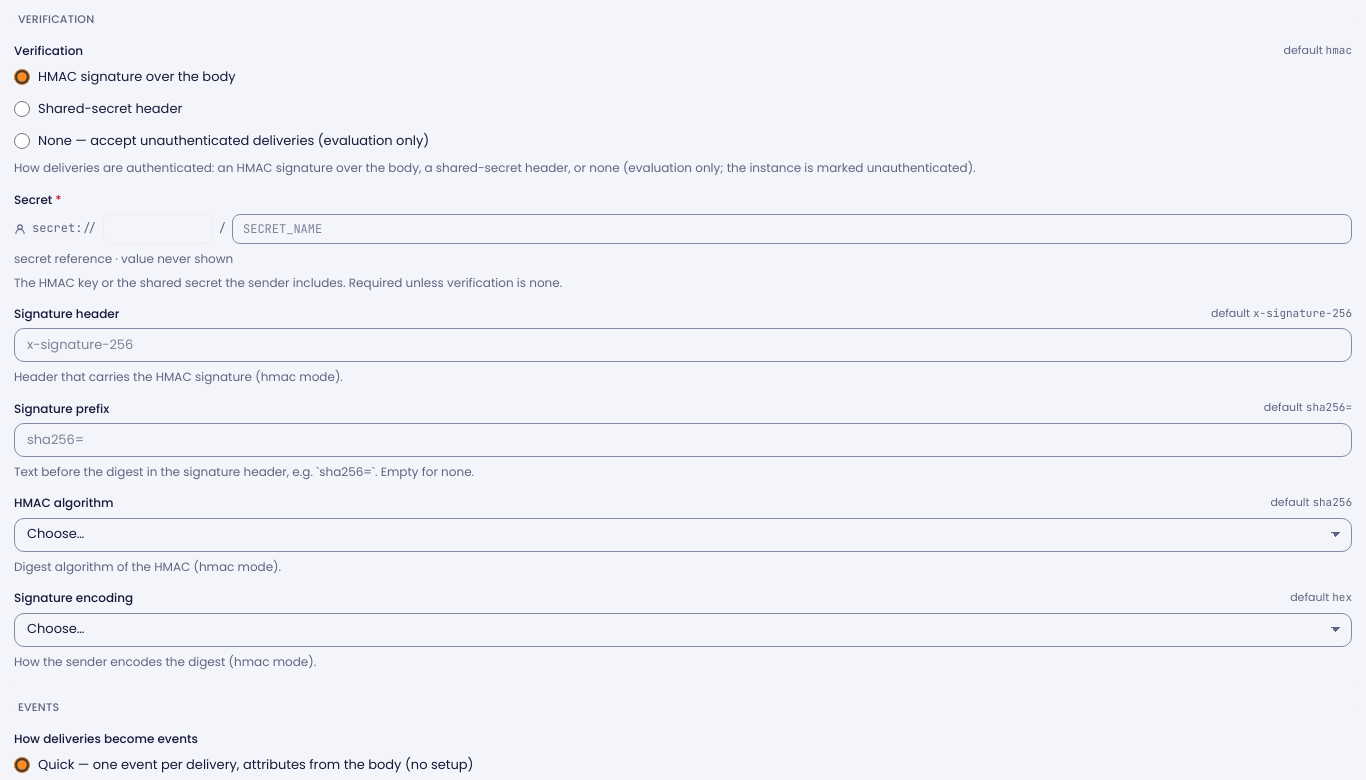
Test case: SchemaForm with the webhook source schema › choosing none hides the secret and signature fields and warns under Verification
The image size is (1366, 780).
Click the radio button labelled "None — accept unauthenticated deliveries (evaluation only)": (22, 141) [14,133,30,149]
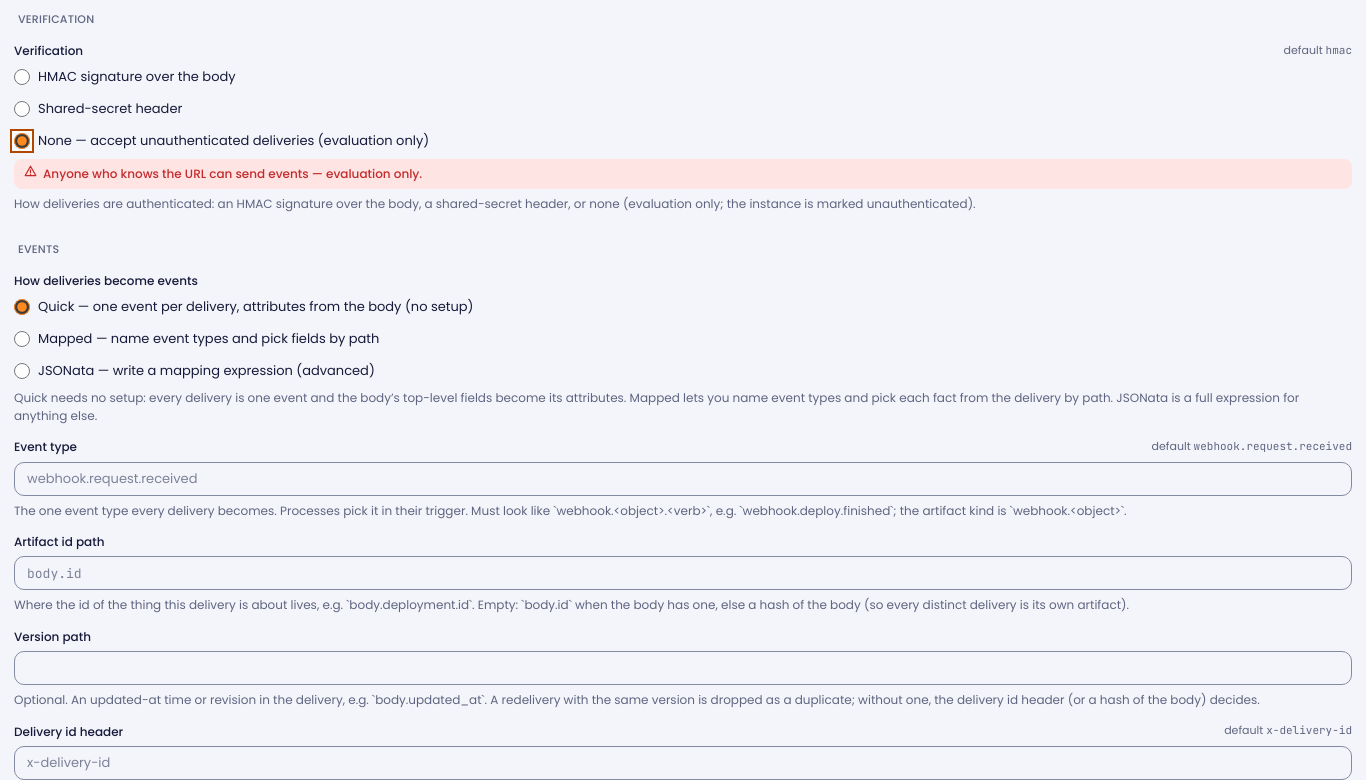
expect the text "Signature header" is gone: met
expect the text "Anyone who knows the URL can send events — evaluation only." is shown: met, box [14,159,1352,189]
